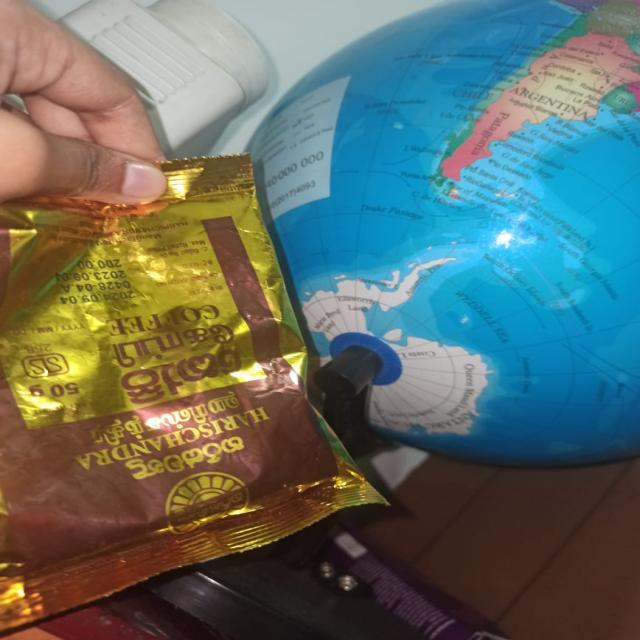Harischandra Coffee: (0, 157, 352, 532)
